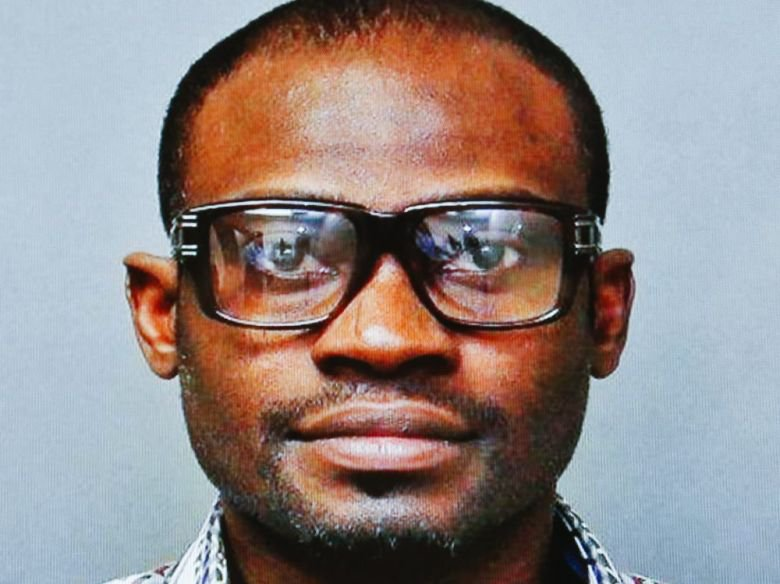noMask: (97, 7, 670, 562)
